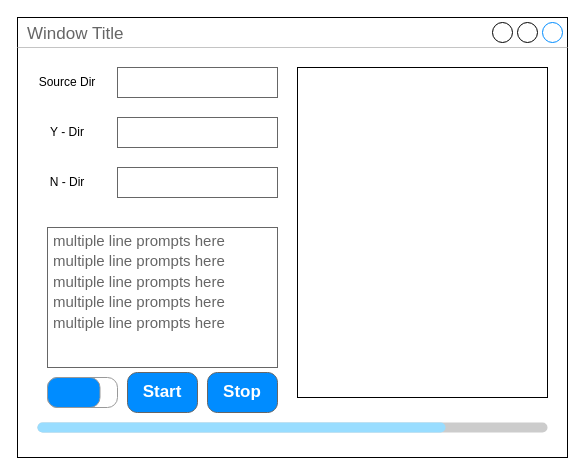
This 585x475 diagram has some shape labels left out. The centre of each missing label's shape, as x and y in pixels:
logs shows here... logs shows here... logs shows here... logs shows here...: (x=422, y=232)
ON: (x=82, y=392)
